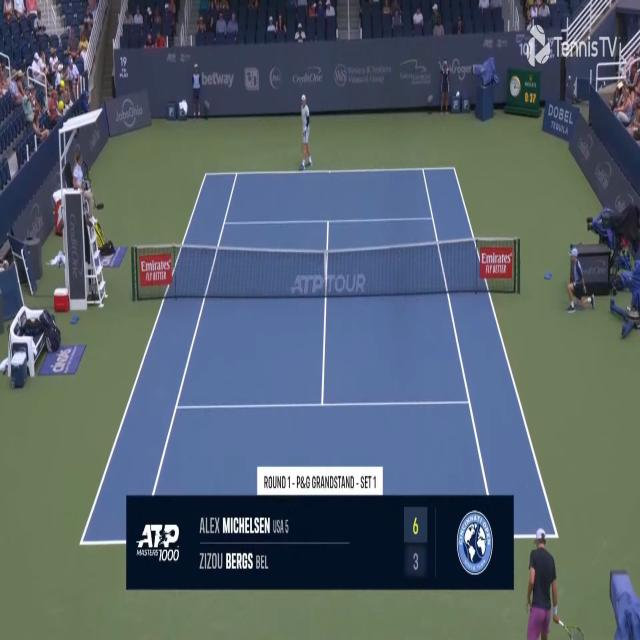tennis-player: (523, 524, 582, 640), (298, 92, 312, 172)
